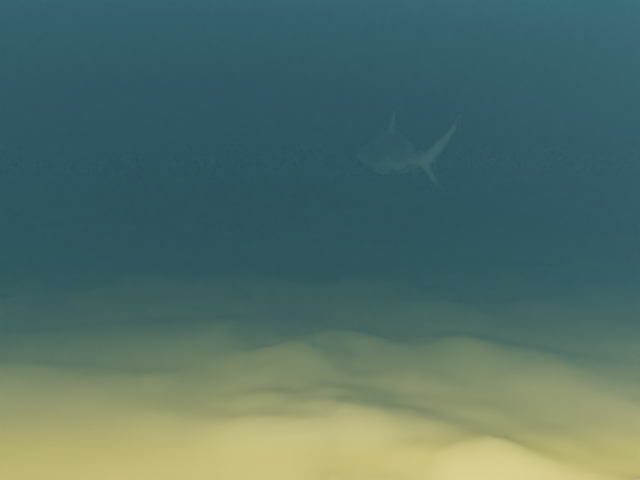Carribean Shark.001: (323, 105, 461, 192)
